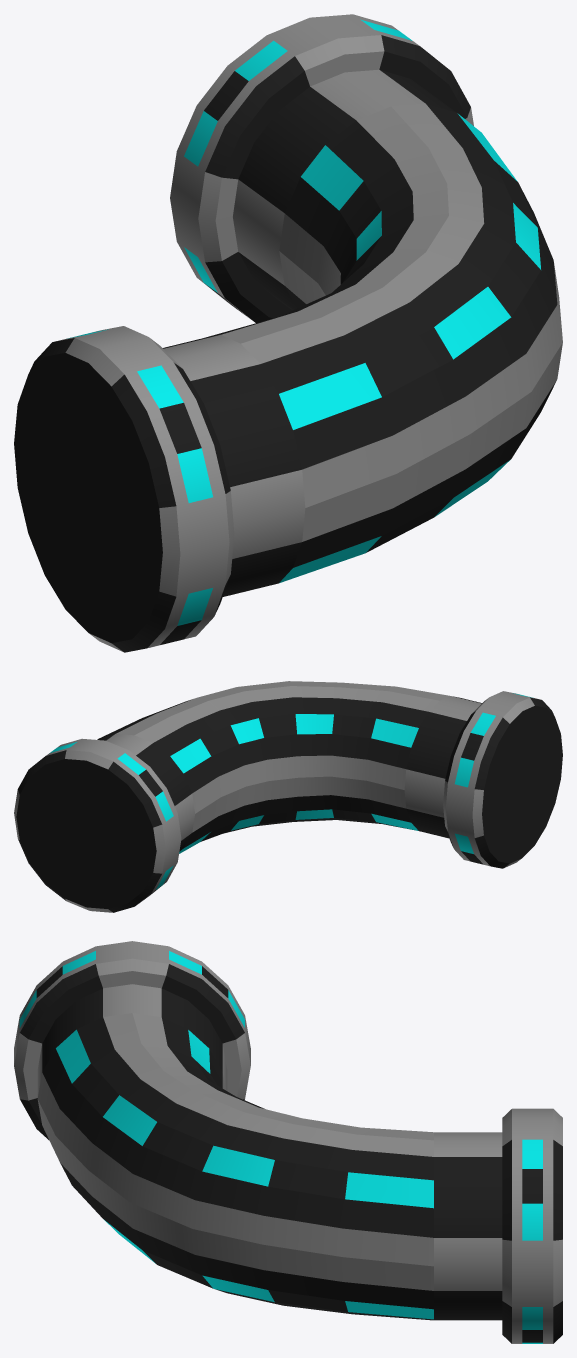
File: pipe corner (1).fbx
3 renders of one model, top to bottom at view 1: azimuth 30°, elevation 25°; view 2: azimuth 150°, elevation 25°; view 3: azimuth 270°, elevation 25°, orthographic. The views are drawn at different scales.
Parts seen in each view (by area): view 1: polySurface8; view 2: polySurface8; view 3: polySurface8.
Part boxes in pixels (x1,y1,x2,y2): polySurface8: (14,14,562,652); polySurface8: (14,681,562,912); polySurface8: (14,941,562,1343).
Size of the model in its own units: 26.6 by 11.48 by 26.6.
